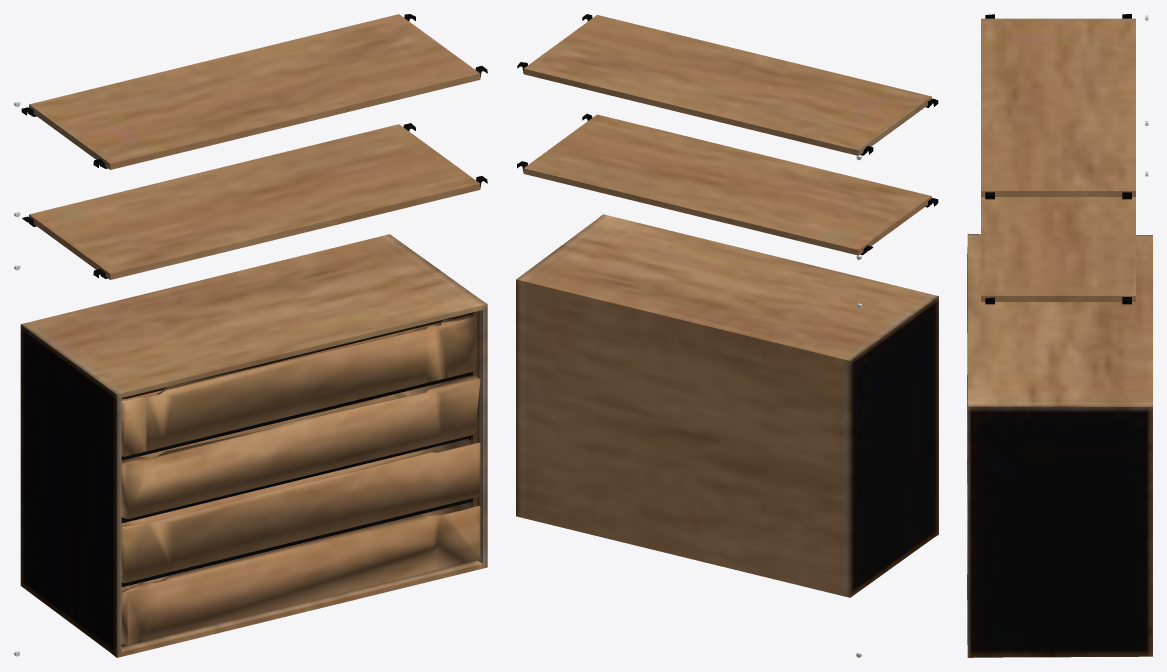
File: drawer_cabinet.glb
3 renders of one model, left to right at view 1: azimuth 30°, elevation 25°; view 2: azimuth 150°, elevation 25°; view 3: azimuth 270°, elevation 25°, orthographic. The views are drawn at different scales.
Parts seen in each view (by area): view 1: drawer_cabinet, drawer_cabinet_drawer_03, drawer_cabinet_drawer_04, drawer_cabinet_drawer_02, drawer_cabinet_drawer_01; view 2: drawer_cabinet; view 3: drawer_cabinet.
Boxes of the visible parts, bbox=[...] form: drawer_cabinet: bbox=[14, 14, 487, 657]; drawer_cabinet_drawer_03: bbox=[121, 439, 480, 583]; drawer_cabinet_drawer_04: bbox=[121, 502, 480, 645]; drawer_cabinet_drawer_02: bbox=[121, 375, 480, 519]; drawer_cabinet_drawer_01: bbox=[121, 315, 474, 456]; drawer_cabinet: bbox=[516, 14, 938, 657]; drawer_cabinet: bbox=[967, 14, 1152, 657].
Bounding box in the file's own units: 1.13 × 1.54 × 0.4881.
Materials: 1 (1 with a texture image).
